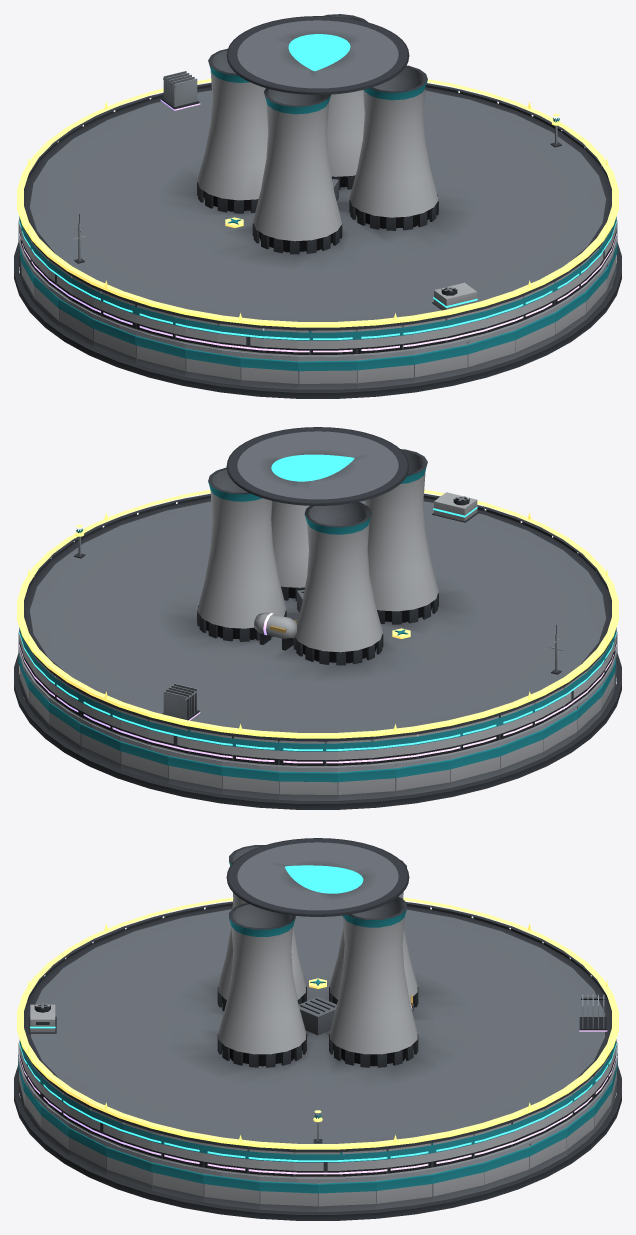
Rendered from atmo_processor_xl_far.glb.
3 views of the same model, one above another, from view 1: azimuth 30°, elevation 25°; view 2: azimuth 150°, elevation 25°; view 3: azimuth 270°, elevation 25° (orthographic).
Parts seen in each view (by area): view 1: Roof, Base, L5, L2, L4, L3; view 2: Roof, Base, L5, L4, L2, L3; view 3: Roof, Base, L5, L2, L3, L4.
Boxes of the visible parts, x1=… form: Roof: x1=19, y1=14, x2=616, y2=356; Base: x1=14, y1=229, x2=621, y2=398; L5: x1=17, y1=78, x2=618, y2=327; L2: x1=18, y1=214, x2=617, y2=360; L4: x1=19, y1=71, x2=616, y2=352; L3: x1=19, y1=221, x2=616, y2=339; Roof: x1=19, y1=427, x2=616, y2=767; Base: x1=14, y1=640, x2=621, y2=809; L5: x1=17, y1=489, x2=618, y2=738; L4: x1=19, y1=612, x2=616, y2=763; L2: x1=18, y1=625, x2=617, y2=771; L3: x1=19, y1=492, x2=616, y2=750; Roof: x1=20, y1=838, x2=616, y2=1177; Base: x1=14, y1=1054, x2=621, y2=1220; L5: x1=17, y1=897, x2=618, y2=1149; L2: x1=18, y1=1039, x2=617, y2=1182; L3: x1=19, y1=1003, x2=616, y2=1161; L4: x1=19, y1=994, x2=616, y2=1174.
Size of the model in its own units: 23.15 by 9.08 by 23.15.
